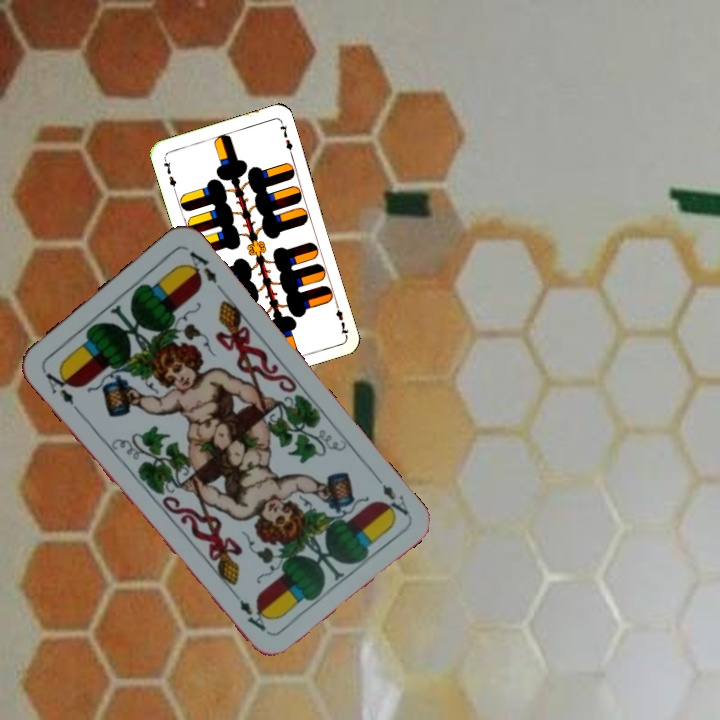E7: (159, 154, 179, 194), (331, 298, 351, 338)
EA: (40, 364, 77, 408), (376, 480, 412, 521)
